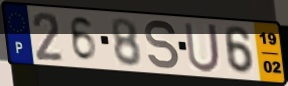2: (31, 10, 66, 64)
6: (223, 24, 256, 77), (68, 15, 99, 63)
8: (110, 16, 143, 68)
S: (143, 18, 182, 72)
U: (182, 21, 223, 75)
